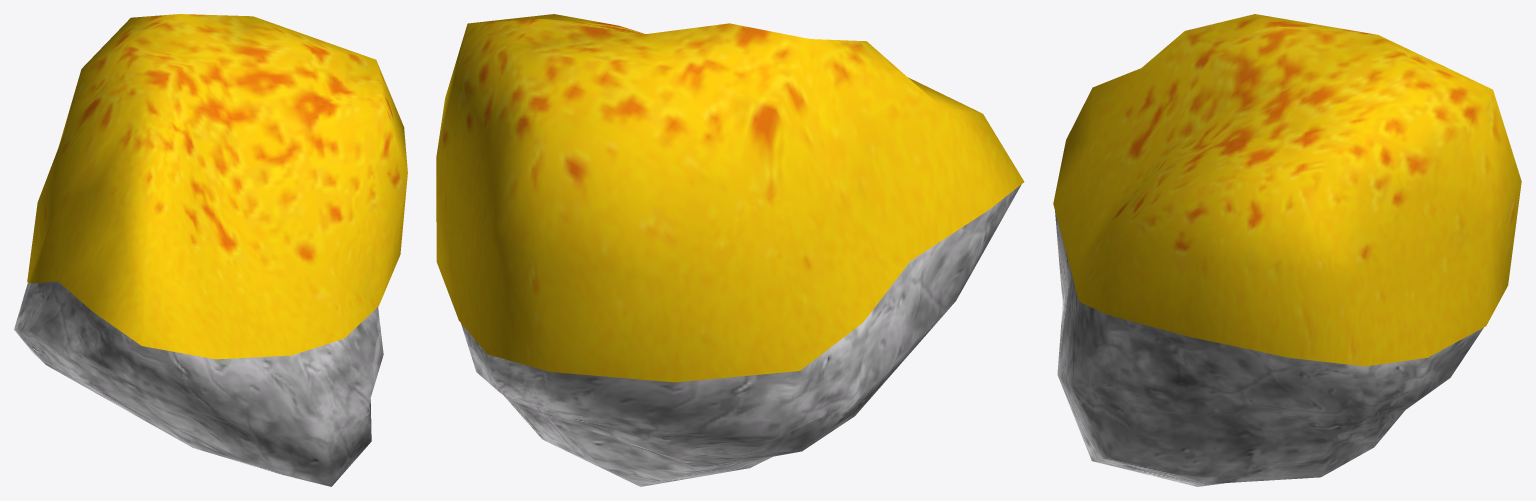
The model's file is INST_TROLLHOLE_ROCKGLOWA.fbx.
The picture shows the model from 3 angles, left to right: view 1: azimuth 30°, elevation 25°; view 2: azimuth 150°, elevation 25°; view 3: azimuth 270°, elevation 25°; orthographic projection. The views are drawn at different scales.
Visible parts, largest first — view 1: INST_TROLLHOLE_ROCKGLOWA; view 2: INST_TROLLHOLE_ROCKGLOWA; view 3: INST_TROLLHOLE_ROCKGLOWA.
Part boxes in pixels (x1=…): INST_TROLLHOLE_ROCKGLOWA: x1=14, y1=14, x2=407, y2=486; INST_TROLLHOLE_ROCKGLOWA: x1=436, y1=14, x2=1024, y2=486; INST_TROLLHOLE_ROCKGLOWA: x1=1053, y1=14, x2=1521, y2=486.
Size of the model in its own units: 21147 by 21094 by 21147.
2 materials, 2 textured.
